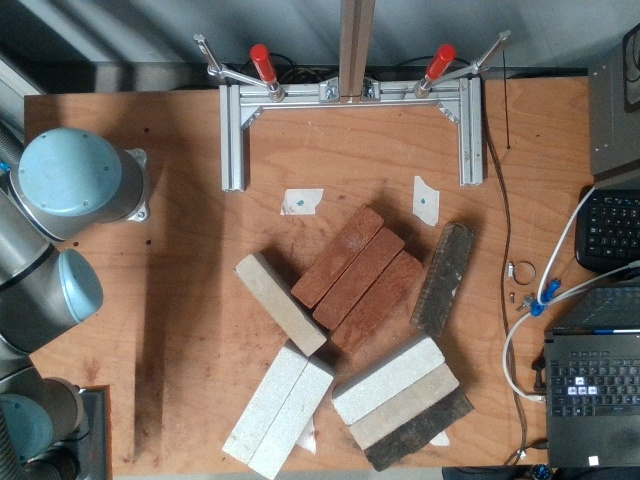brick-side: (293, 205, 381, 307), (313, 227, 401, 329), (333, 252, 421, 354), (335, 339, 442, 422), (249, 367, 330, 476), (235, 255, 323, 354), (351, 366, 457, 448), (225, 352, 305, 459), (365, 391, 469, 471), (420, 222, 477, 334)
